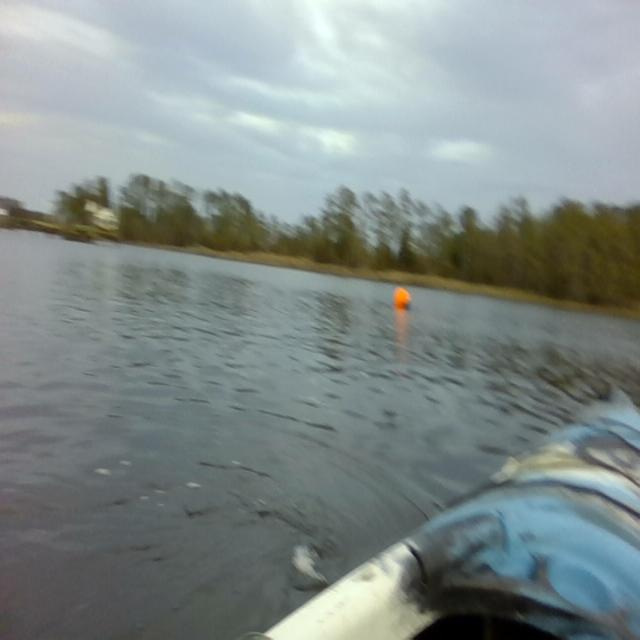Buoy: (394, 283, 412, 313)
